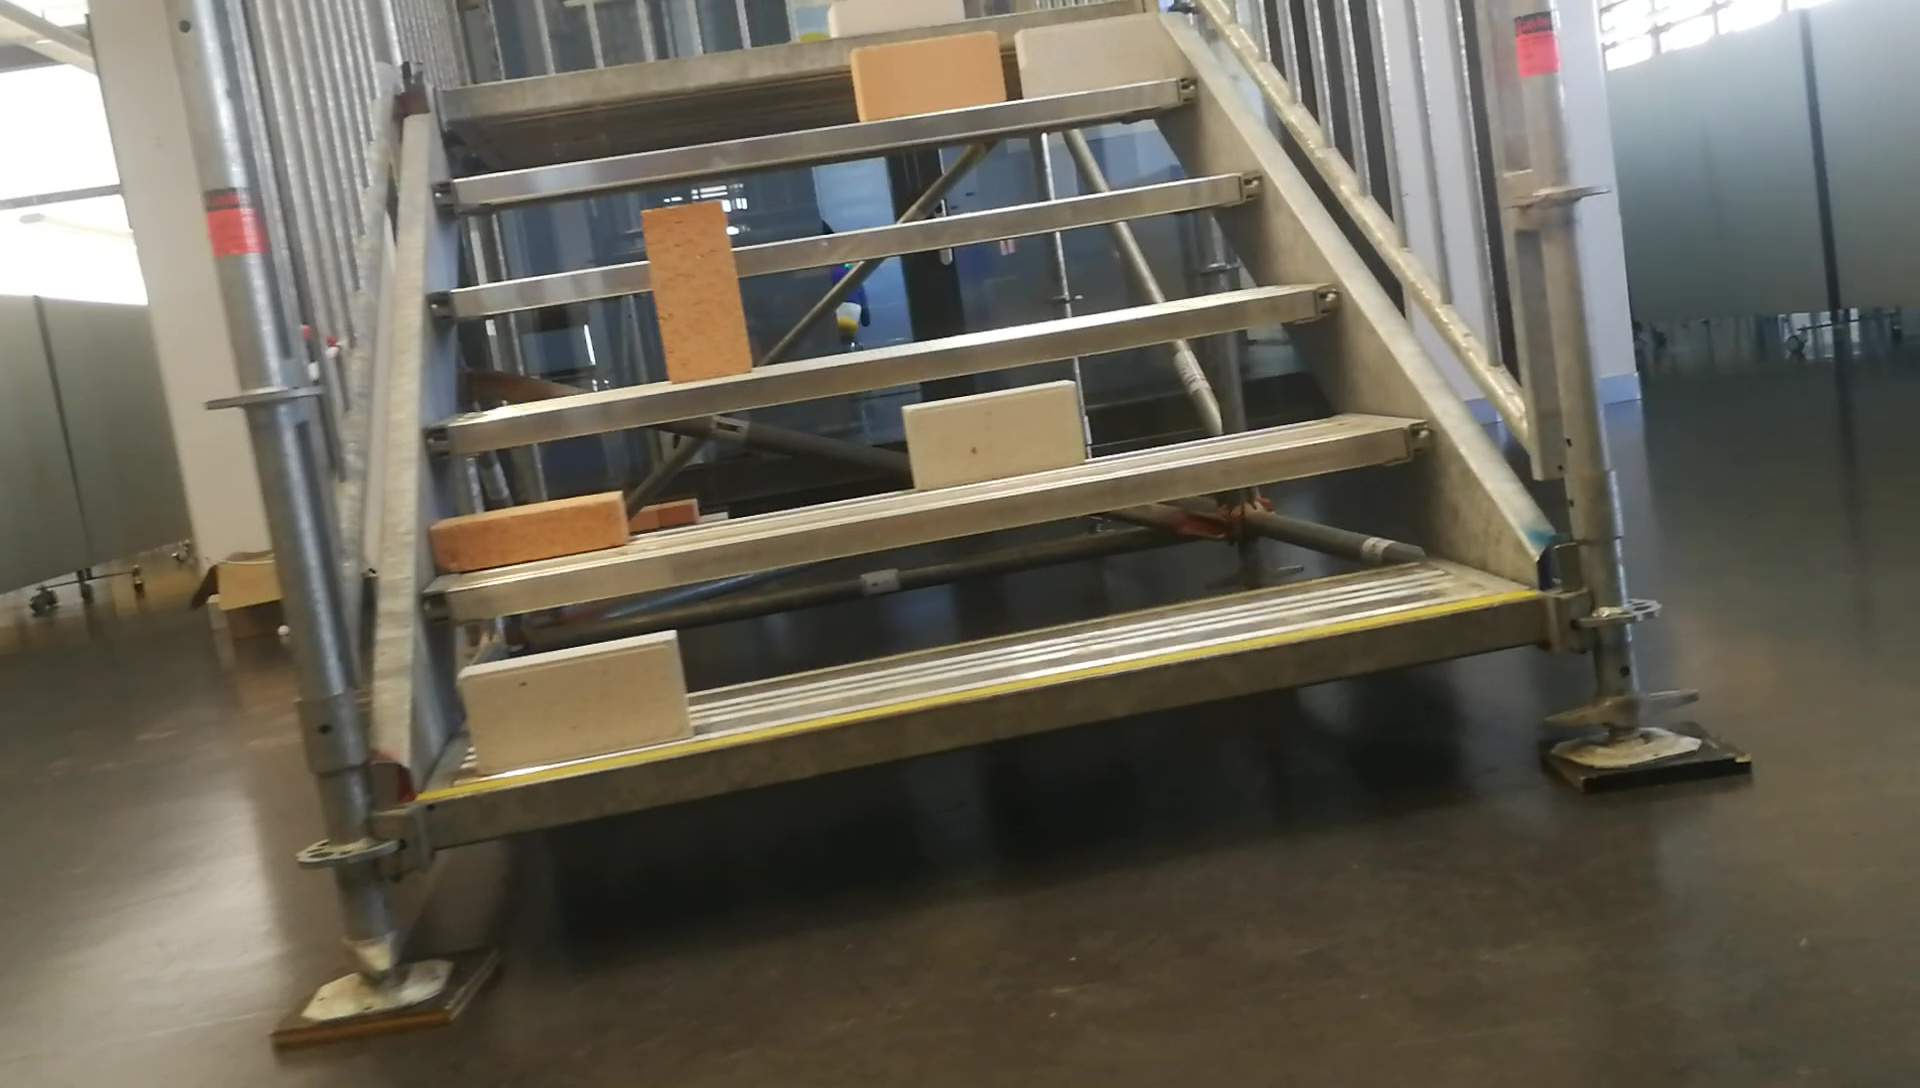brick: (458, 633, 690, 775), (644, 198, 753, 382), (907, 382, 1083, 488), (427, 483, 622, 570), (851, 32, 1002, 123), (1019, 18, 1159, 95), (824, 0, 960, 28)
edge: (419, 593, 1544, 839), (425, 421, 1428, 619), (425, 281, 1340, 455), (429, 173, 1259, 317), (430, 78, 1197, 206)
stairs: (272, 3, 1753, 1050)
steps: (388, 3, 1553, 853)
